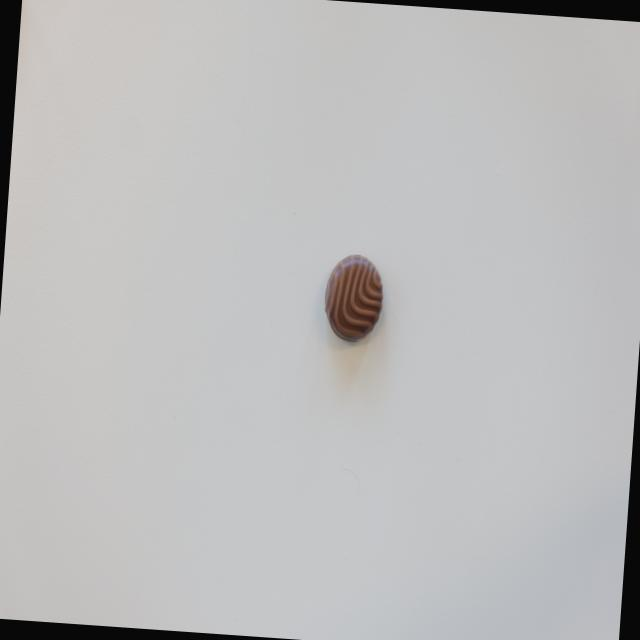Noir_authentique: (322, 252, 386, 345)
